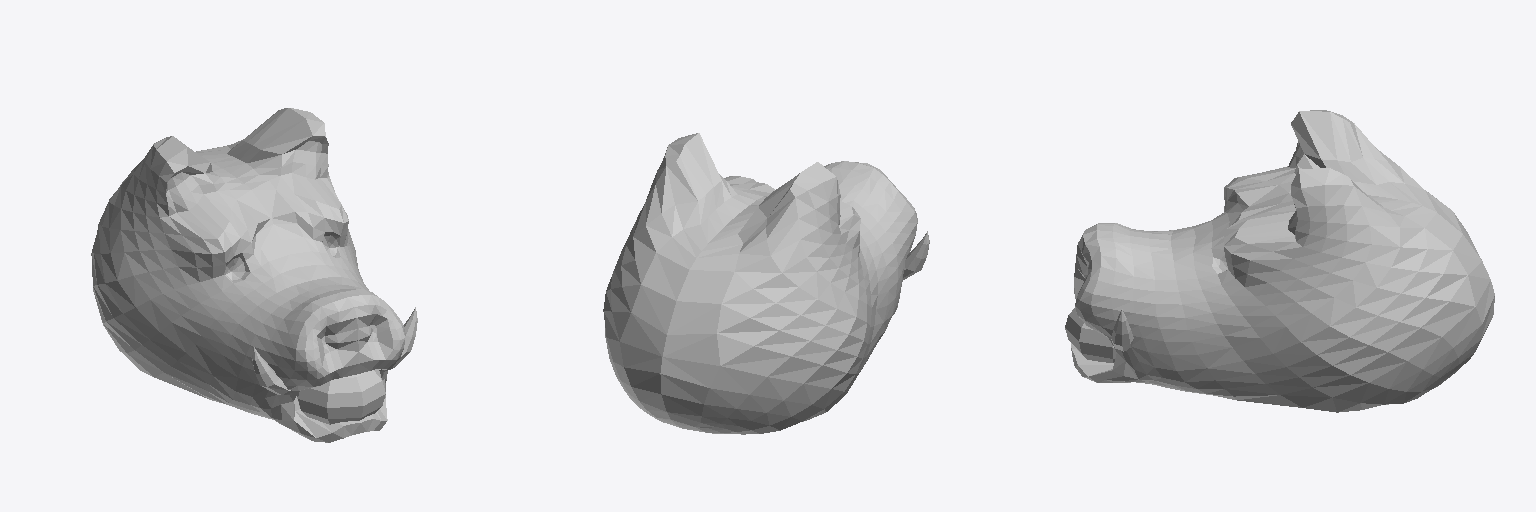
Rendered from BoarHead_Banquet_geo.obj.
3 views of the same model, side by side, from view 1: azimuth 30°, elevation 25°; view 2: azimuth 150°, elevation 25°; view 3: azimuth 270°, elevation 25° (orthographic).
Visible parts, largest first — view 1: REDO:BoarHead; view 2: REDO:BoarHead; view 3: REDO:BoarHead.
Boxes of the visible parts, box(x1,y1,x2,y2) form: REDO:BoarHead: box(91, 108, 417, 442); REDO:BoarHead: box(603, 133, 929, 434); REDO:BoarHead: box(1065, 110, 1494, 412).
Bounding box in the file's own units: 8.97 × 8.58 × 14.41.